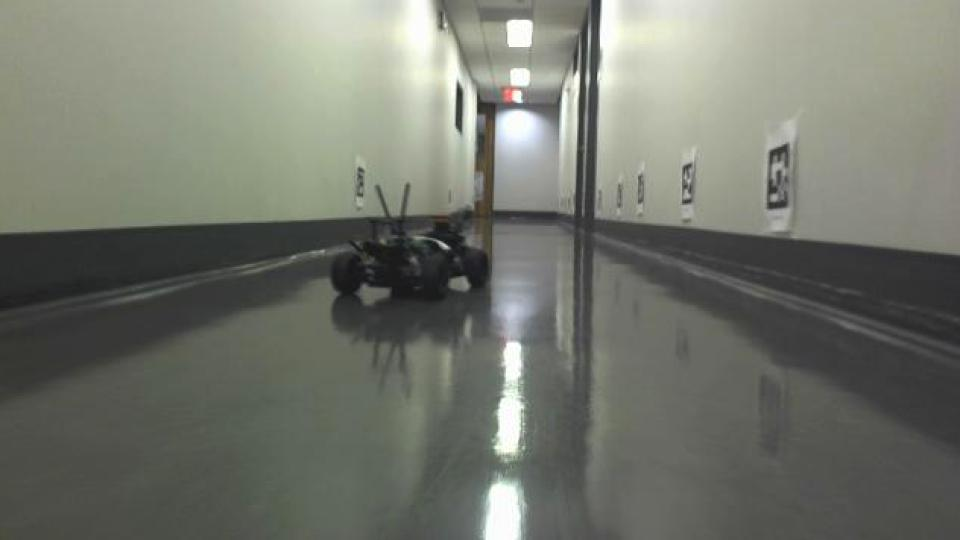car: (326, 179, 491, 305)
